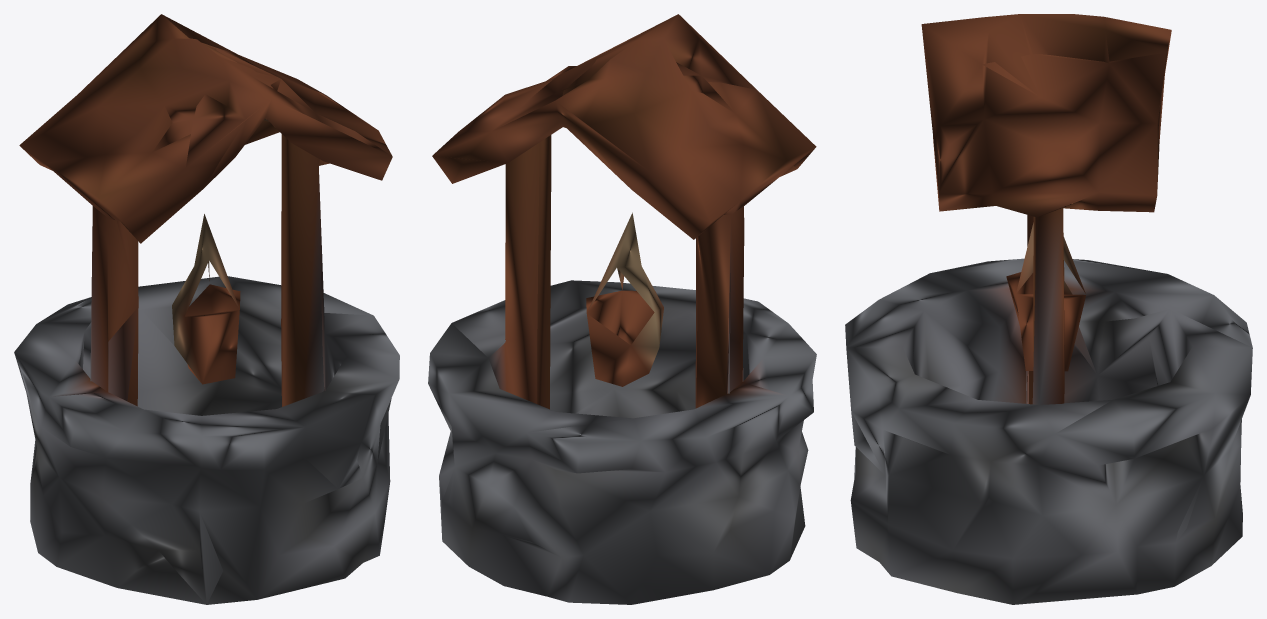
Rendered from gen3d-wishing-well-lod1.glb.
3 views of the same model, side by side, from view 1: azimuth 30°, elevation 25°; view 2: azimuth 150°, elevation 25°; view 3: azimuth 270°, elevation 25° (orthographic). The views are drawn at different scales.
Parts seen in each view (by area): view 1: part_0; view 2: part_0; view 3: part_0.
Boxes of the visible parts, x1=… form: part_0: x1=14, y1=14, x2=399, y2=604; part_0: x1=428, y1=14, x2=816, y2=604; part_0: x1=845, y1=14, x2=1252, y2=604.
Bounding box in the file's own units: 0.7261 × 0.9991 × 0.7203.
